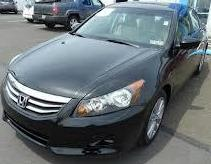front_view: (3, 64, 146, 155)
headlight: (68, 78, 143, 114)
side_glass: (173, 13, 203, 46)
